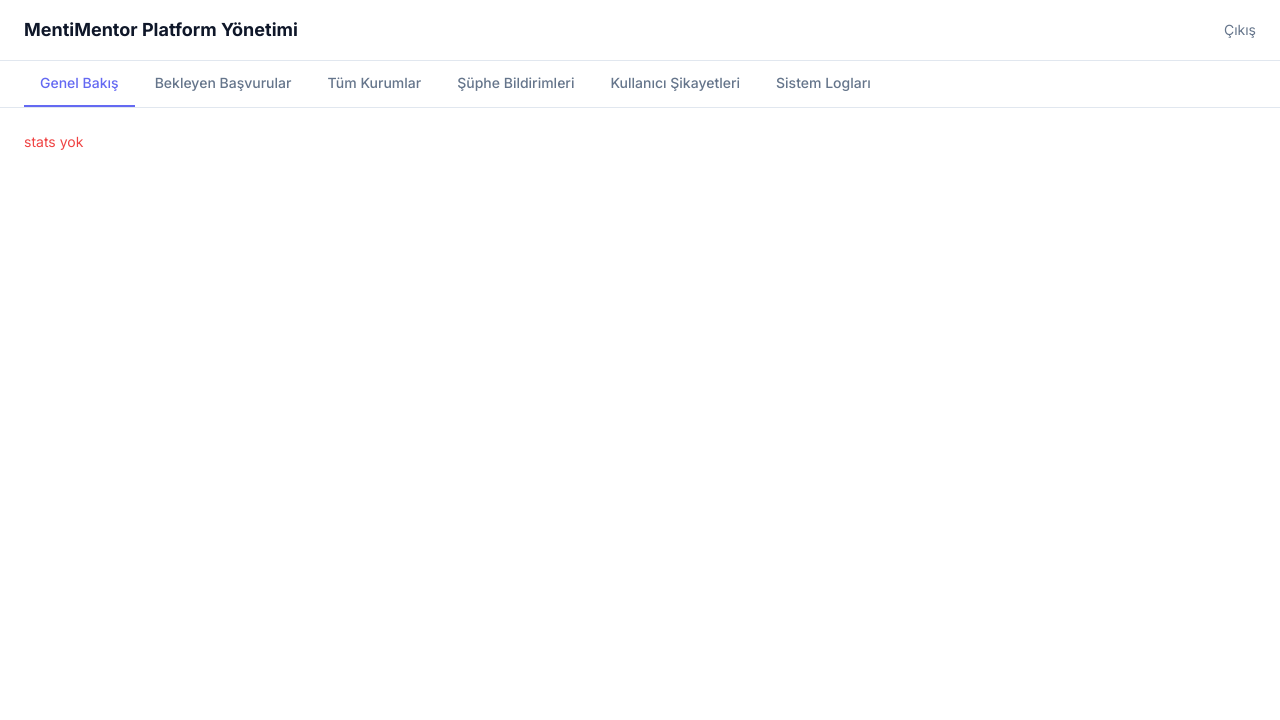
Platform paneli — kullanıcı şikayetleri sayfalama (AN-39) › total > items iken "Daha fazla göster" görünür; tıklayınca offset'li istek gider ve satırlar eklenir
What coordinates should you click on to do the following:
click the button "Kullanıcı Şikayetleri"
I would click on:
 (675, 84)
Its box is [594, 61, 756, 107].
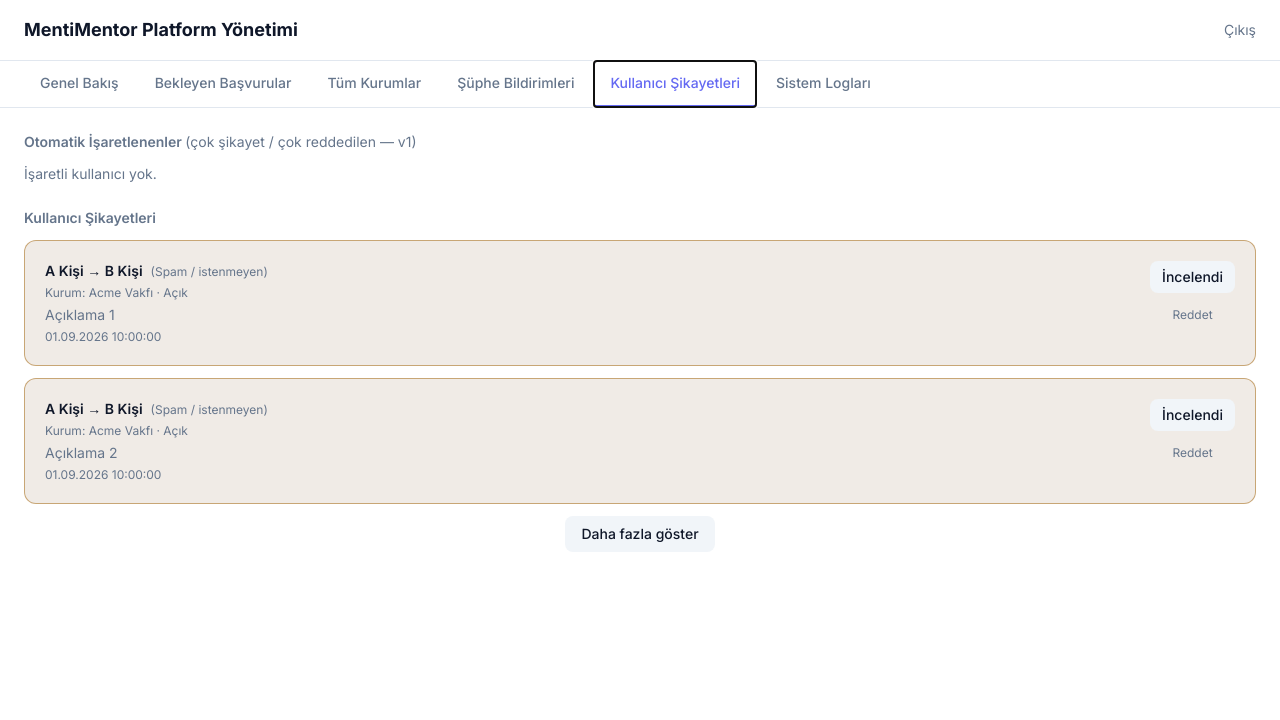
expect the text "Açıklama 1" is shown: met, box [45, 306, 115, 323]
What coordinates should you click on to do the following:
click the button "Daha fazla göster"
I would click on:
 (640, 534)
Its box is [565, 516, 715, 552].
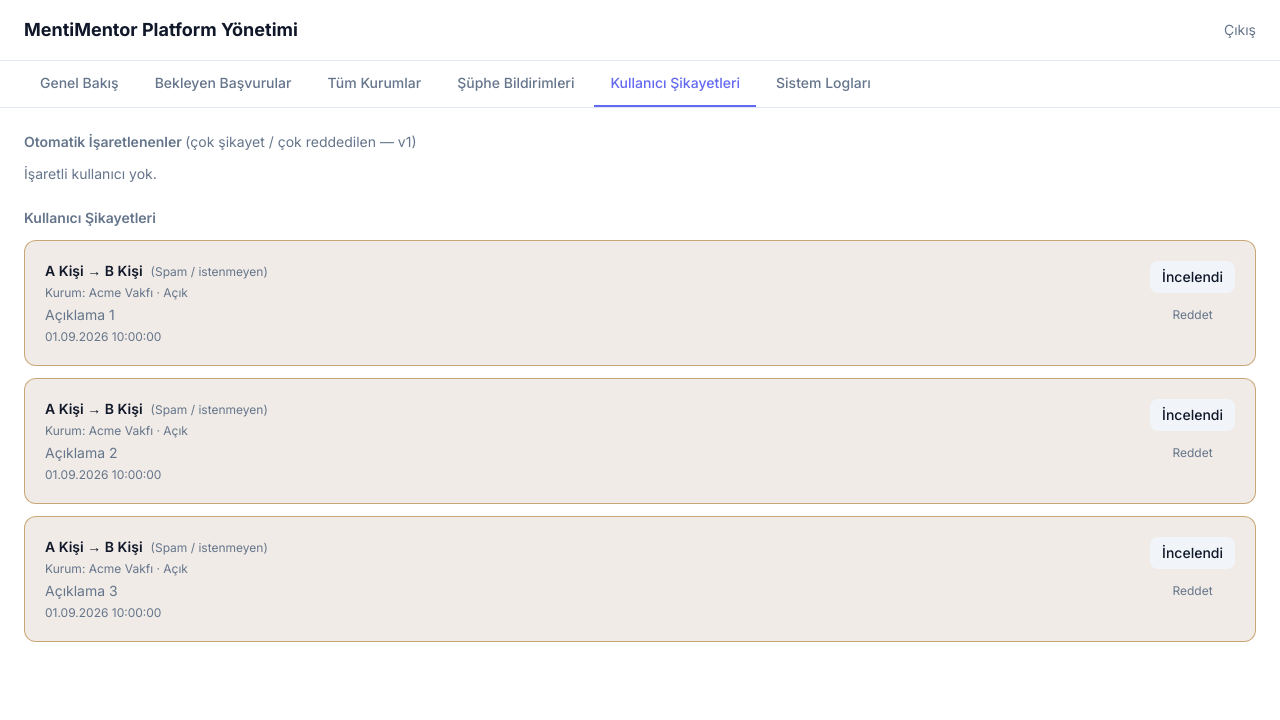
expect the text "Açıklama 1" is shown: met, box [45, 306, 115, 323]
expect the text "Açıklama 2" is shown: met, box [45, 444, 118, 461]
expect the text "Açıklama 3" is shown: met, box [45, 582, 118, 599]
